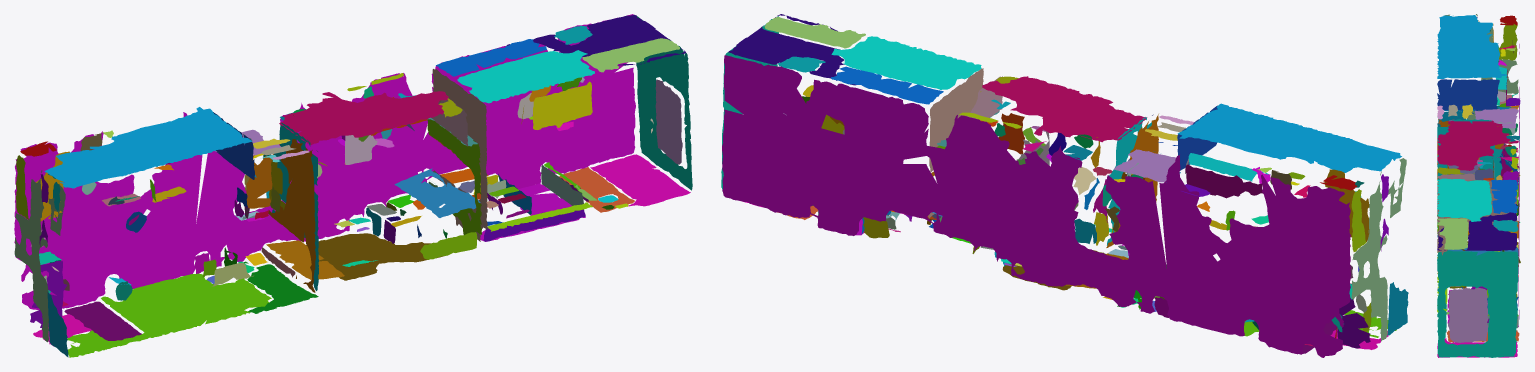
The model's file is pips_scene078.glb.
3 views of the same model, side by side, from view 1: azimuth 30°, elevation 25°; view 2: azimuth 150°, elevation 25°; view 3: azimuth 270°, elevation 25° (orthographic). The views are drawn at different scales.
Size of the model in its own units: 16.32 by 4.42 by 2.54.
